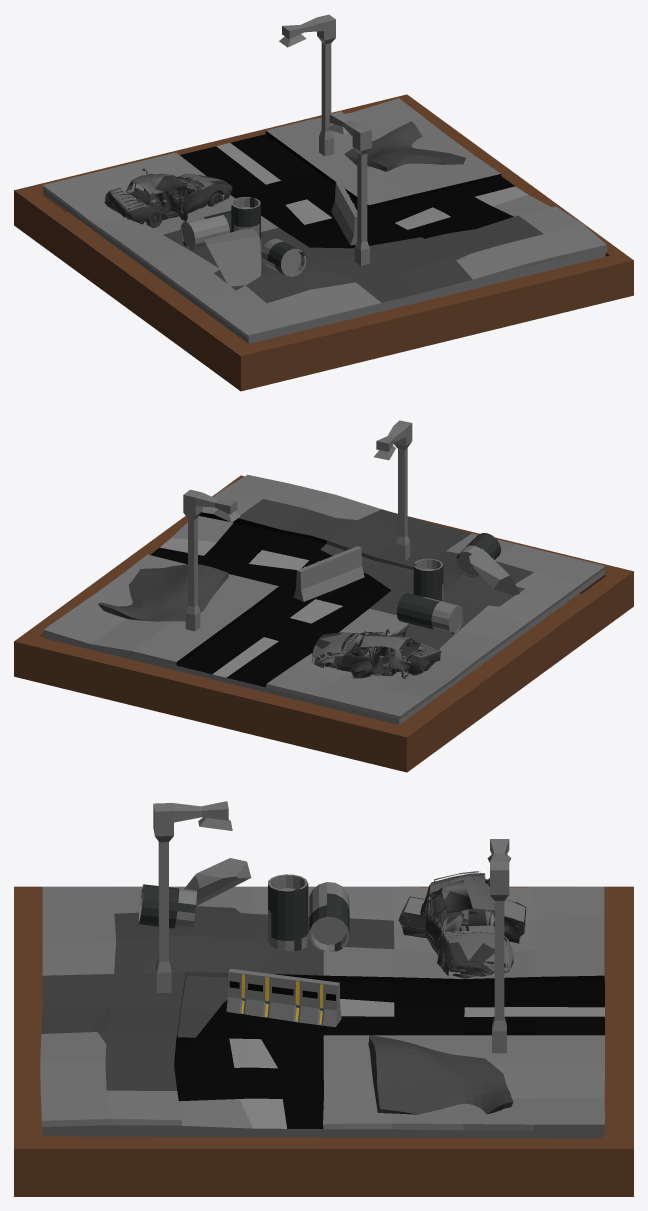
File: Level 2.fbx
The picture shows the model from 3 angles, top to bottom: view 1: azimuth 30°, elevation 25°; view 2: azimuth 150°, elevation 25°; view 3: azimuth 270°, elevation 25°; orthographic projection. The views are drawn at different scales.
Parts seen in each view (by area): view 1: Cube.001, board002, legran_headlightframe_R, Road Light, Cube.004, Fire Drum.001, Fire Drum.002, RaodBlock 2, Fire Drum; view 2: Cube.001, board002, legran_headlightframe_R, Road Light, RaodBlock 2, Cube.004, Fire Drum.001, Fire Drum, Fire Drum.002; view 3: Cube.001, board002, legran_headlightframe_R, RaodBlock 2, Cube.004, Road Light, Fire Drum, Fire Drum.001, Fire Drum.002.
Boxes of the visible parts, <box> form: Cube.001: <box>42,98,607,343</box>; board002: <box>14,94,633,391</box>; legran_headlightframe_R: <box>104,168,232,227</box>; Road Light: <box>279,14,335,156</box>; Cube.004: <box>327,111,371,265</box>; Fire Drum.001: <box>180,210,231,250</box>; Fire Drum.002: <box>261,239,306,276</box>; RaodBlock 2: <box>331,182,357,245</box>; Fire Drum: <box>231,197,260,239</box>; Cube.001: <box>43,474,605,724</box>; board002: <box>14,475,633,772</box>; legran_headlightframe_R: <box>311,626,441,678</box>; Road Light: <box>183,489,240,631</box>; RaodBlock 2: <box>293,546,364,601</box>; Cube.004: <box>374,420,412,560</box>; Fire Drum.001: <box>396,593,463,634</box>; Fire Drum: <box>413,558,443,601</box>; Fire Drum.002: <box>456,533,500,577</box>; Cube.001: <box>40,858,604,1138</box>; board002: <box>14,886,633,1196</box>; legran_headlightframe_R: <box>398,871,526,978</box>; RaodBlock 2: <box>226,968,341,1027</box>; Cube.004: <box>153,801,232,993</box>; Road Light: <box>487,839,511,1053</box>; Fire Drum: <box>268,874,308,951</box>; Fire Drum.001: <box>309,882,349,951</box>; Fire Drum.002: <box>138,884,196,930</box>.
Size of the model in its own units: 30.62 by 30.61 by 13.35.
